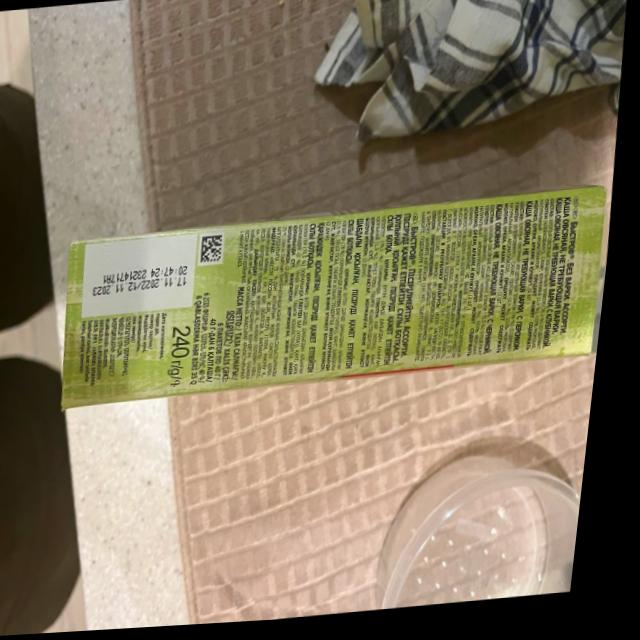datamatrix: (205, 237, 231, 269)
